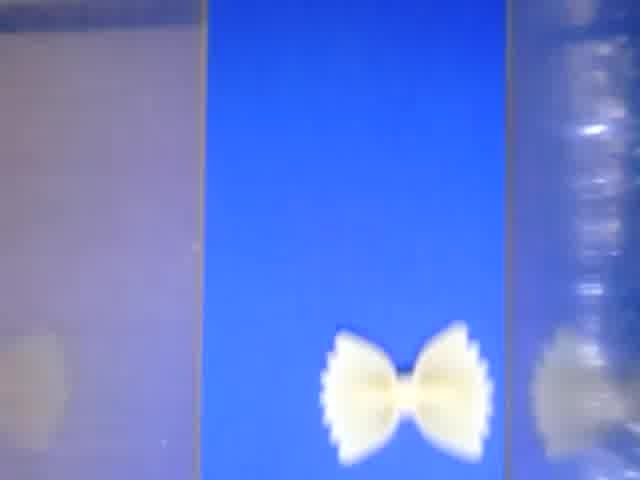farfalle: (319, 319, 492, 467)
